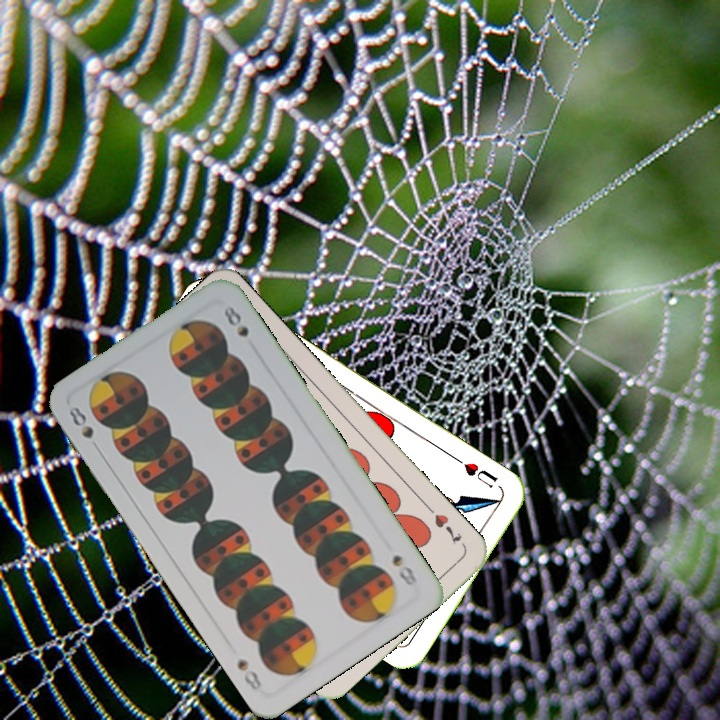H7: (422, 501, 465, 547)
HU: (451, 453, 501, 491)
S8: (64, 402, 104, 454), (388, 550, 420, 588)
